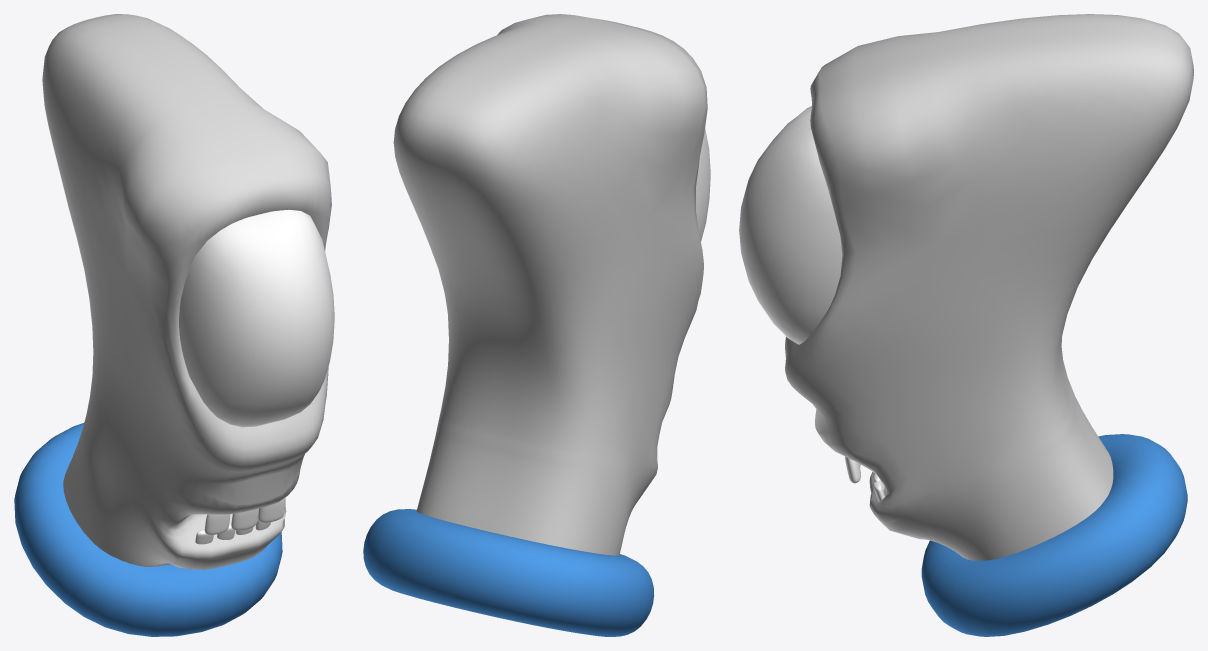
File: AlienHead.glb
The picture shows the model from 3 angles, left to right: view 1: azimuth 30°, elevation 25°; view 2: azimuth 150°, elevation 25°; view 3: azimuth 270°, elevation 25°; orthographic projection. The views are drawn at different scales.
Visible parts, largest first — view 1: Cube.021; view 2: Cube.021; view 3: Cube.021.
Part boxes in pixels (bbox=[...]): Cube.021: bbox=[14, 14, 334, 636]; Cube.021: bbox=[363, 14, 710, 636]; Cube.021: bbox=[739, 14, 1193, 636].
Size of the model in its own units: 1.86 by 4.21 by 2.98.
